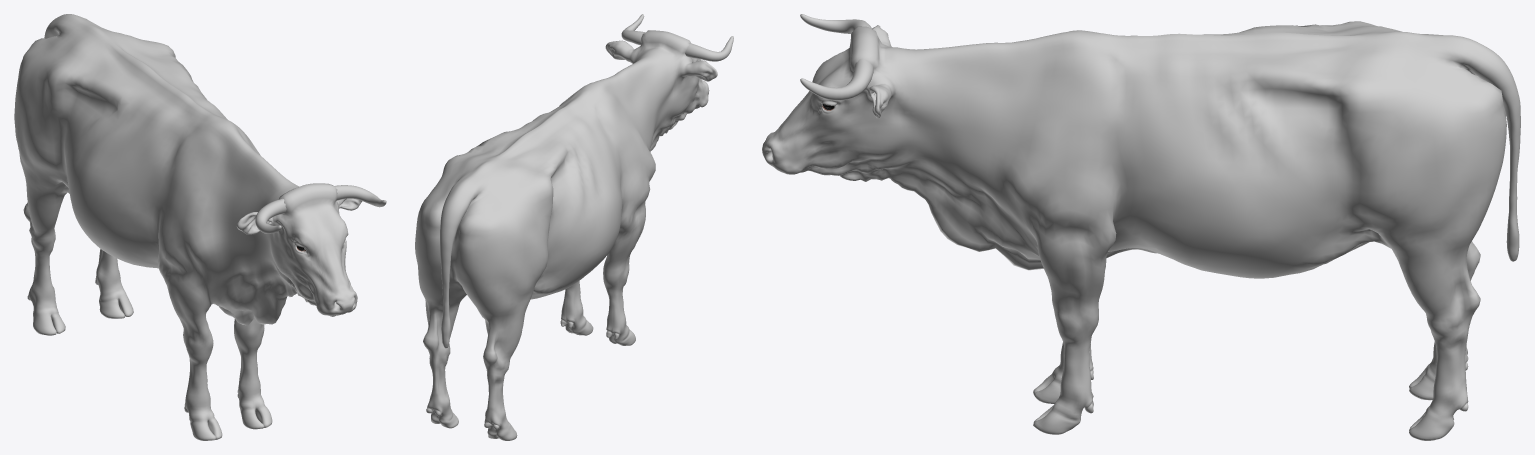
The picture shows the model from 3 angles, left to right: view 1: azimuth 30°, elevation 25°; view 2: azimuth 150°, elevation 25°; view 3: azimuth 270°, elevation 25°; orthographic projection. The views are drawn at different scales.
Visible parts, largest first — view 1: Cattle_Body, Cattle_Horn; view 2: Cattle_Body, Cattle_Horn; view 3: Cattle_Body, Cattle_Horn.
Boxes of the visible parts, x1,y1,x2,y2 form: Cattle_Body: [14, 14, 362, 440]; Cattle_Horn: [255, 185, 386, 233]; Cattle_Body: [415, 30, 717, 440]; Cattle_Horn: [621, 14, 733, 61]; Cattle_Body: [762, 21, 1520, 440]; Cattle_Horn: [800, 14, 873, 100].
Size of what is drawn, in the model's own units: 0.8345 by 1.53 by 2.77.
